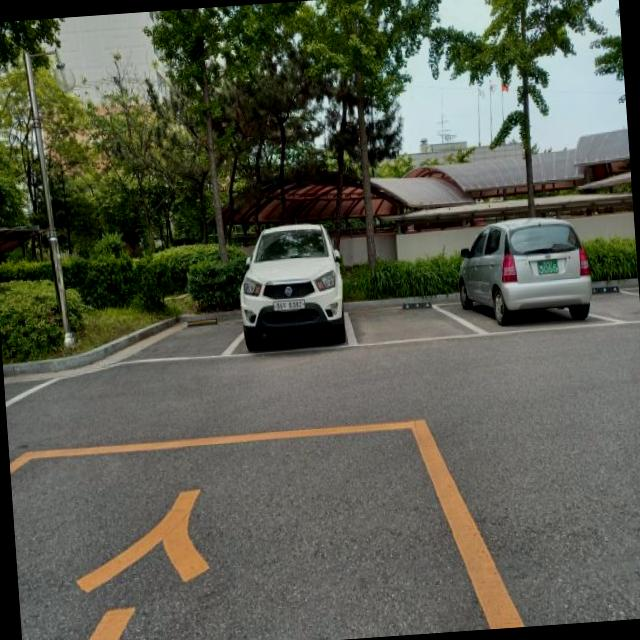car: (457, 218, 591, 326), (239, 223, 347, 349)
free: (102, 301, 253, 364), (346, 297, 487, 344)
